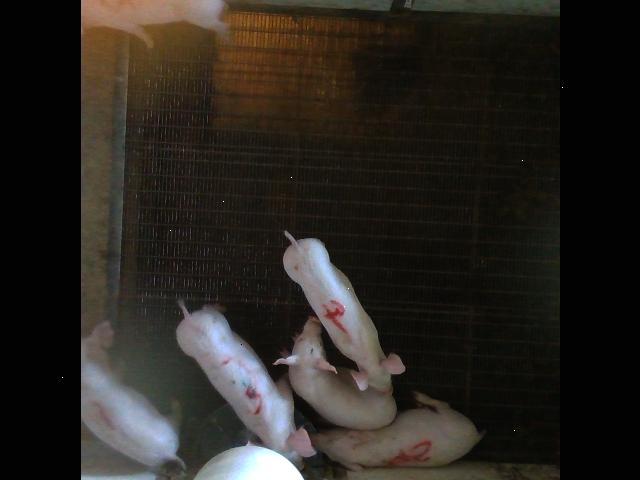pig-1: (81, 364, 183, 468)
pig-2: (81, 0, 226, 46)
pig-3: (176, 301, 315, 469)
pig-4: (282, 231, 404, 390)
pig-5: (309, 391, 482, 471)
